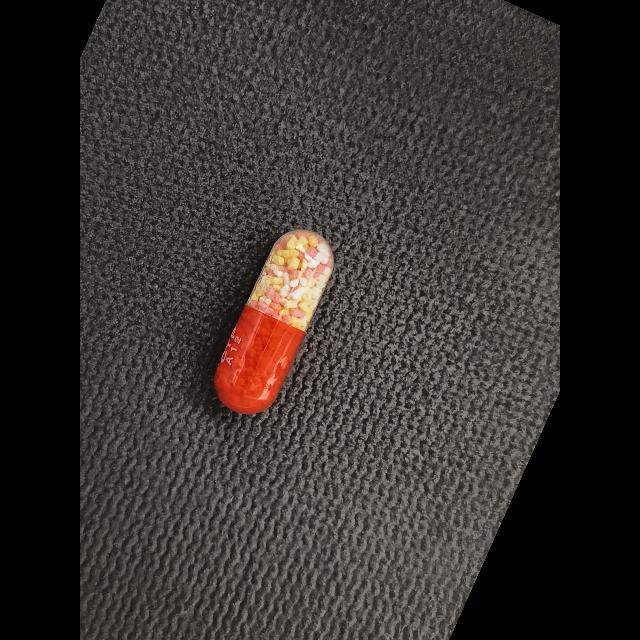Intact Capsule: (214, 229, 334, 414)
